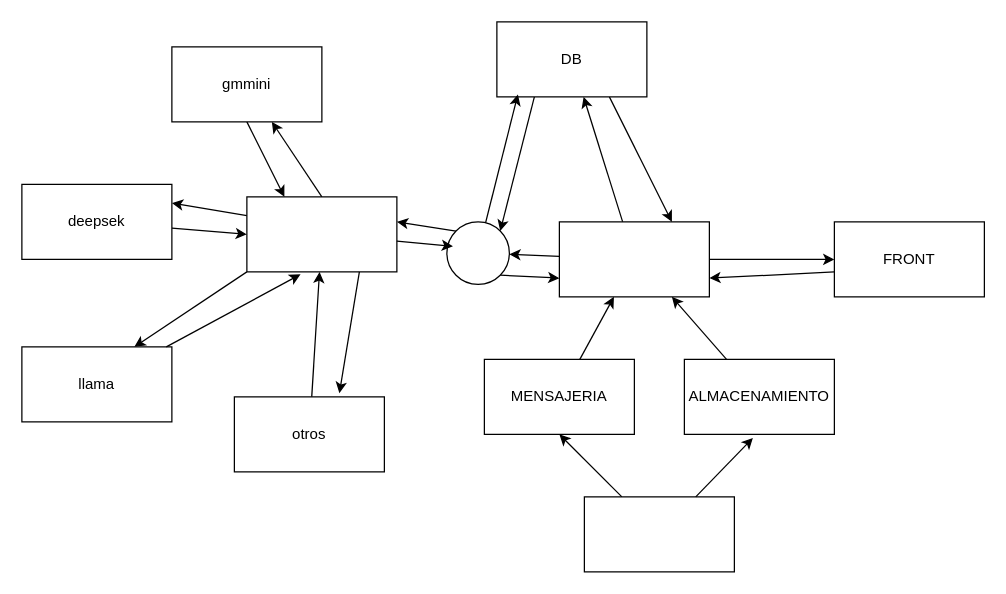
Some shapes in this 1006 by 594 pixel diagram are drawn without their labels. Each missing label, with the centre of its shape:
"BACK" goes at point 633,259.
"GROC" goes at point 321,234.
"SERVICOS GOOGLE" goes at point 658,534.
